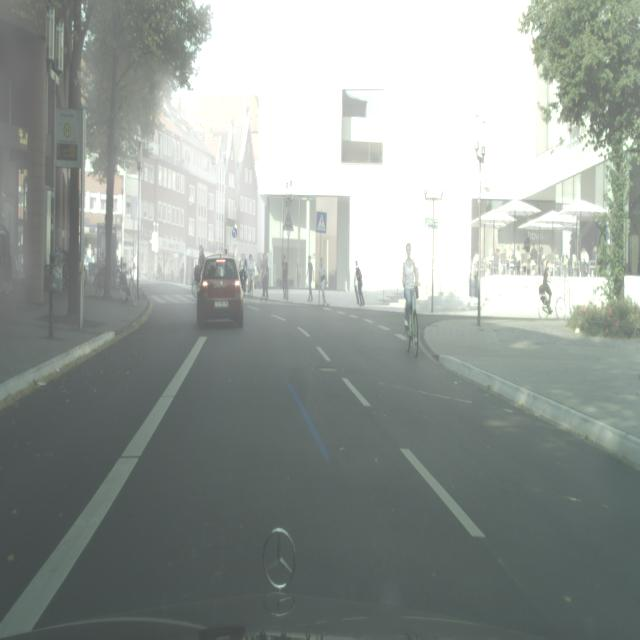car: (537, 272, 571, 319), (405, 283, 419, 357), (354, 277, 365, 306)
person: (402, 242, 420, 346), (539, 261, 553, 312), (318, 256, 328, 308), (354, 259, 364, 306), (310, 256, 318, 305), (247, 252, 255, 297), (307, 256, 314, 302), (282, 255, 289, 301), (261, 261, 269, 301)
truck: (195, 255, 243, 328)
